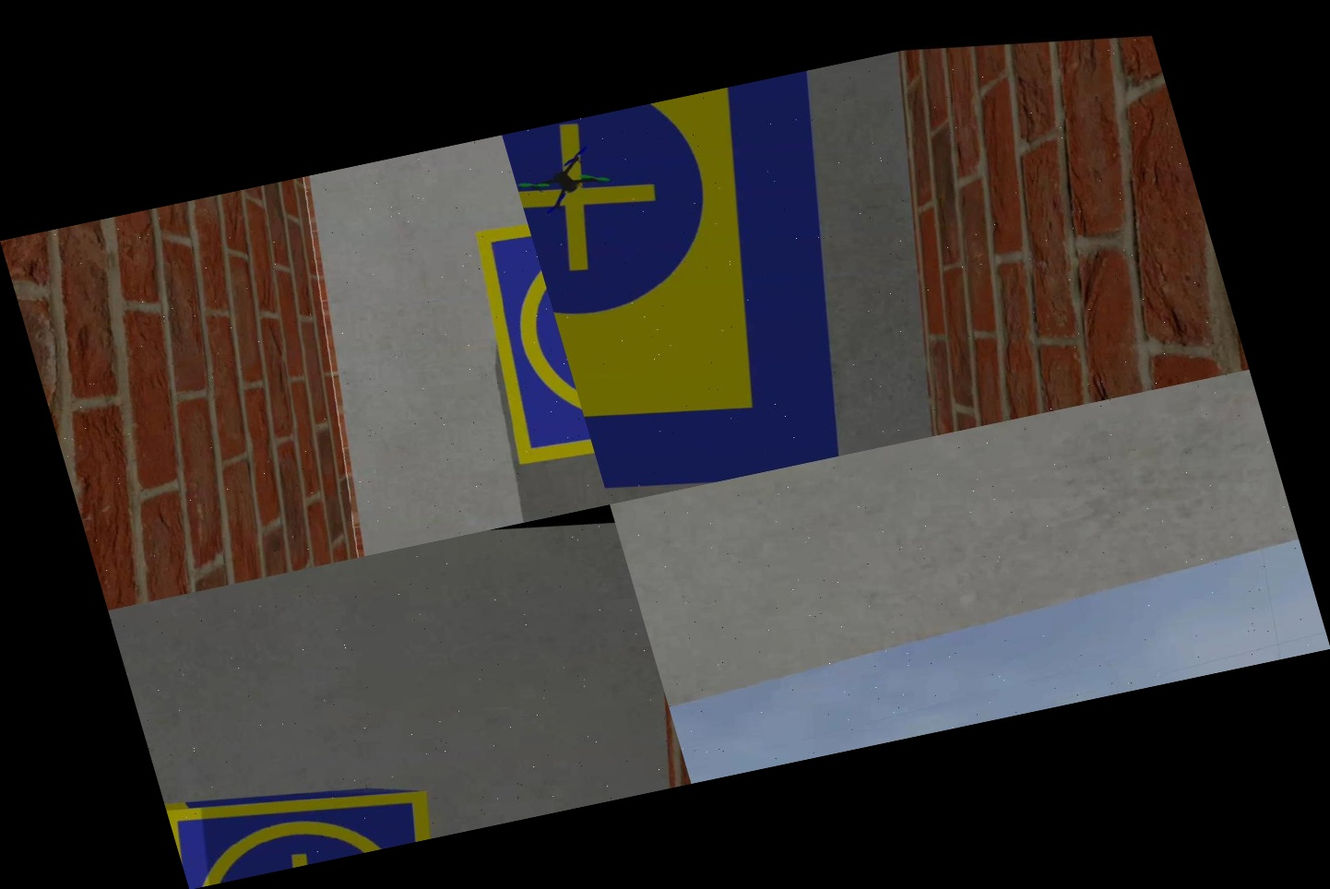large_base: (502, 70, 918, 504)
small_base: (416, 200, 607, 517), (164, 751, 441, 889)
